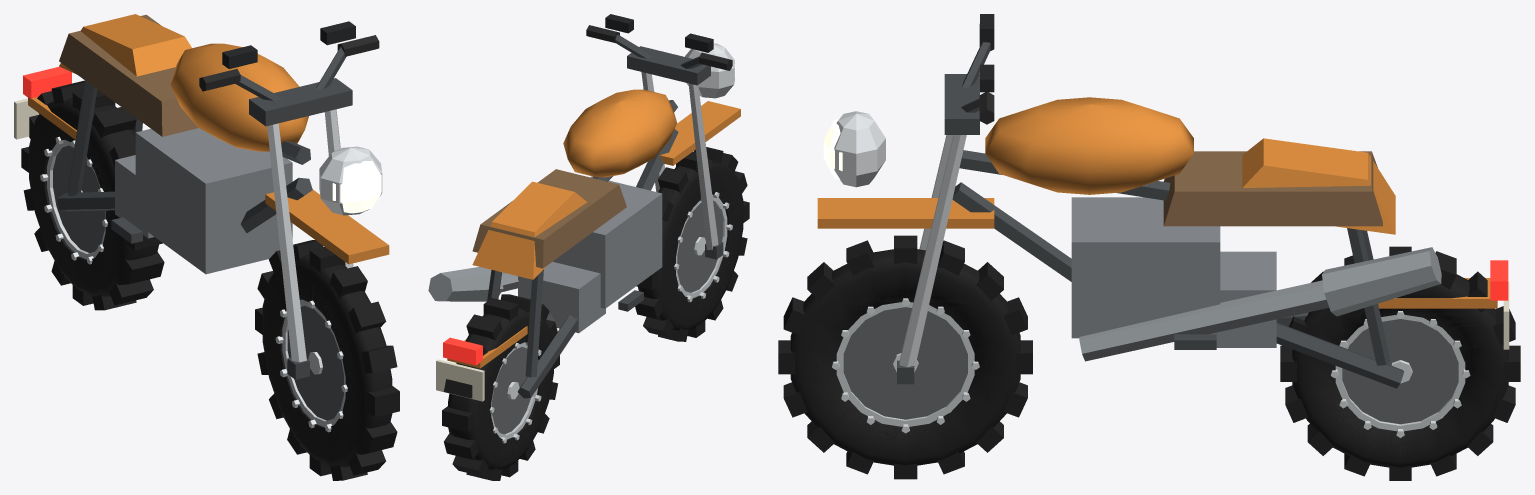
File: fern-250-norider.glb
The picture shows the model from 3 angles, left to right: view 1: azimuth 30°, elevation 25°; view 2: azimuth 150°, elevation 25°; view 3: azimuth 270°, elevation 25°; orthographic projection. The views are drawn at different scales.
Parts seen in each view (by area): view 1: frame, wheel_F, wheel_R, fork, headlight, taillight, plate_R; view 2: frame, wheel_F, wheel_R, fork, headlight, plate_R, taillight; view 3: frame, wheel_F, wheel_R, fork, headlight, taillight.
Boxes of the visible parts, bbox=[...] form: frame: bbox=[28, 14, 312, 274]; wheel_F: bbox=[255, 240, 399, 480]; wheel_R: bbox=[21, 80, 164, 310]; fork: bbox=[199, 21, 389, 379]; headlight: bbox=[319, 146, 382, 215]; taillight: bbox=[23, 66, 71, 99]; plate_R: bbox=[14, 98, 39, 139]; frame: bbox=[428, 89, 678, 398]; wheel_F: bbox=[635, 147, 749, 341]; wheel_R: bbox=[442, 294, 559, 480]; fork: bbox=[586, 14, 740, 259]; headlight: bbox=[685, 43, 735, 98]; plate_R: bbox=[436, 359, 484, 401]; taillight: bbox=[443, 337, 482, 365]; frame: bbox=[952, 97, 1497, 388]; wheel_F: bbox=[778, 235, 1032, 479]; wheel_R: bbox=[1280, 246, 1520, 480]; fork: bbox=[817, 14, 994, 384]; headlight: bbox=[823, 111, 885, 187]; taillight: bbox=[1490, 260, 1508, 300].
Size of the model in its own units: 0.5996 by 1.33 by 2.1.
